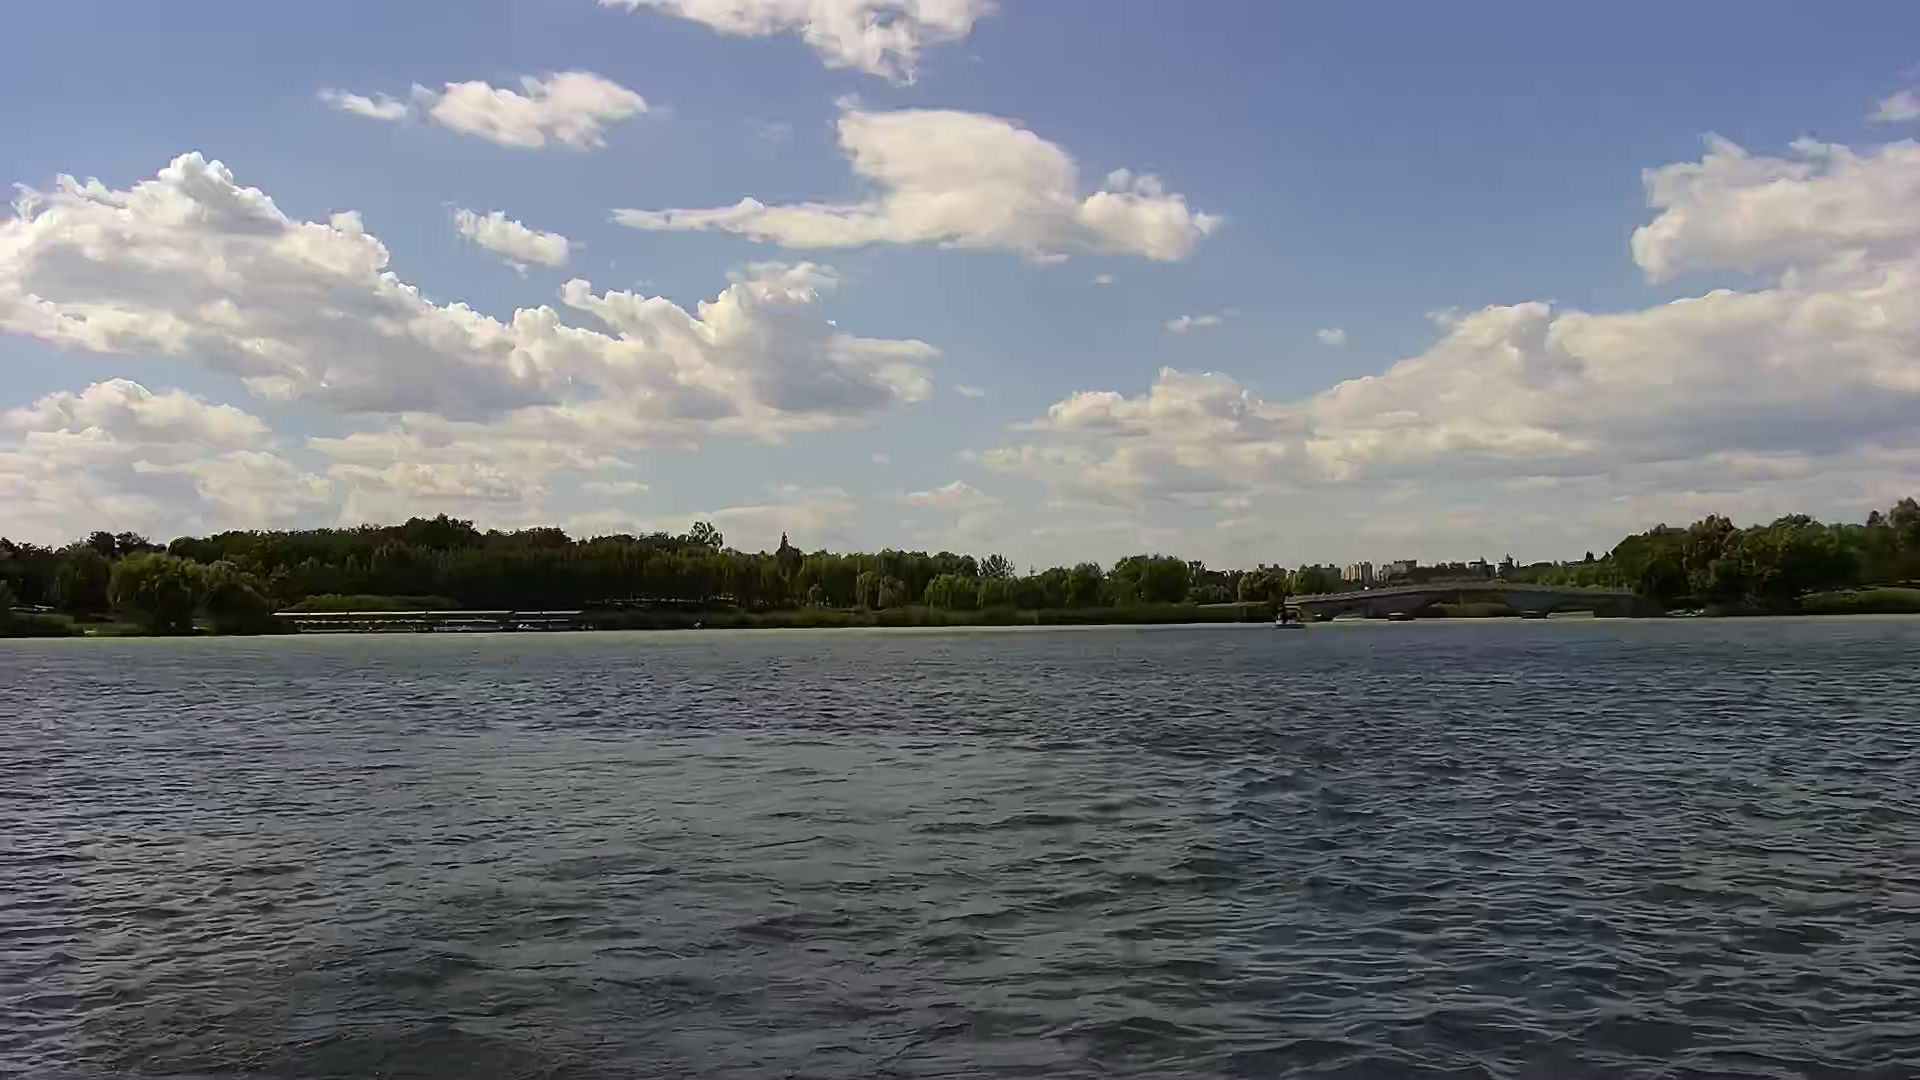boat: (1274, 603, 1309, 629)
bridge: (1286, 583, 1636, 620), (281, 607, 585, 636)
